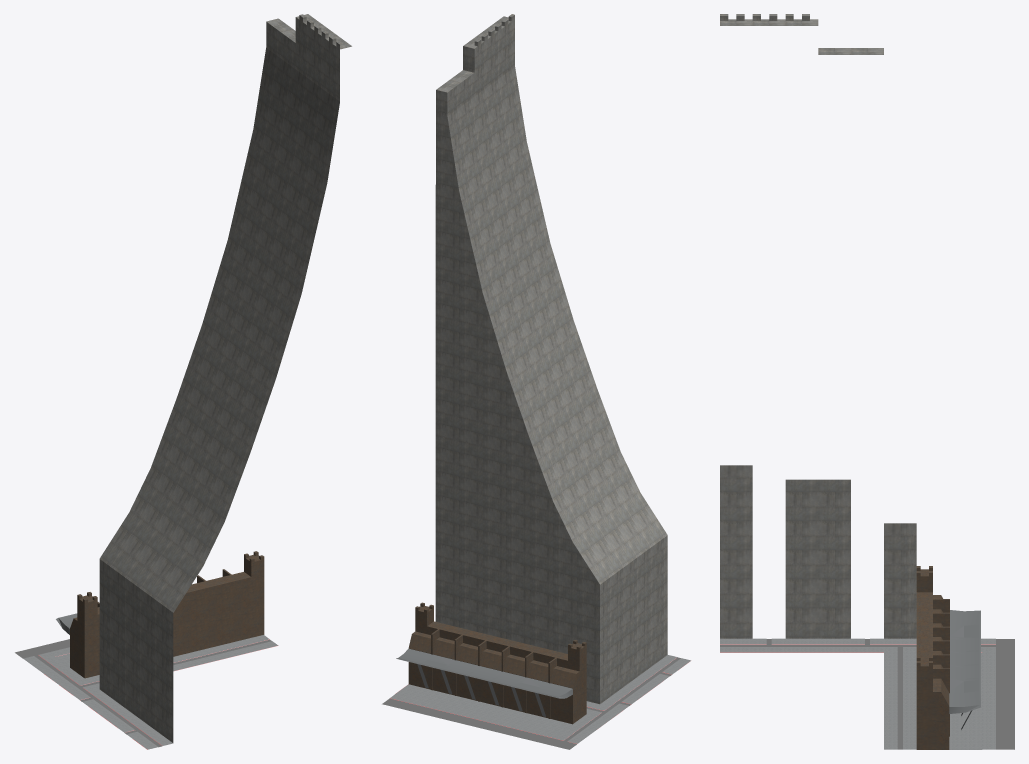
Rendered from Section2.gltf.
The picture shows the model from 3 angles, left to right: view 1: azimuth 30°, elevation 25°; view 2: azimuth 150°, elevation 25°; view 3: azimuth 270°, elevation 25°; orthographic projection. The views are drawn at different scales.
Visible parts, largest first — view 1: Section2; view 2: Section2; view 3: Section2.
Boxes of the visible parts, box(x1,y1,x2,y2) form: Section2: box(15, 14, 351, 749); Section2: box(382, 14, 691, 749); Section2: box(720, 14, 1014, 749).
Size of what is drawn, in the model's own units: 128 by 393 by 144.
Materials: 6 (3 with a texture image).
